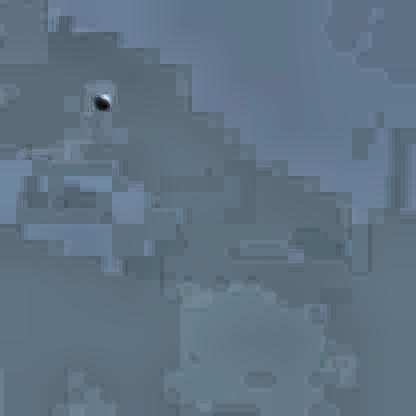golfball: (91, 89, 107, 107)
